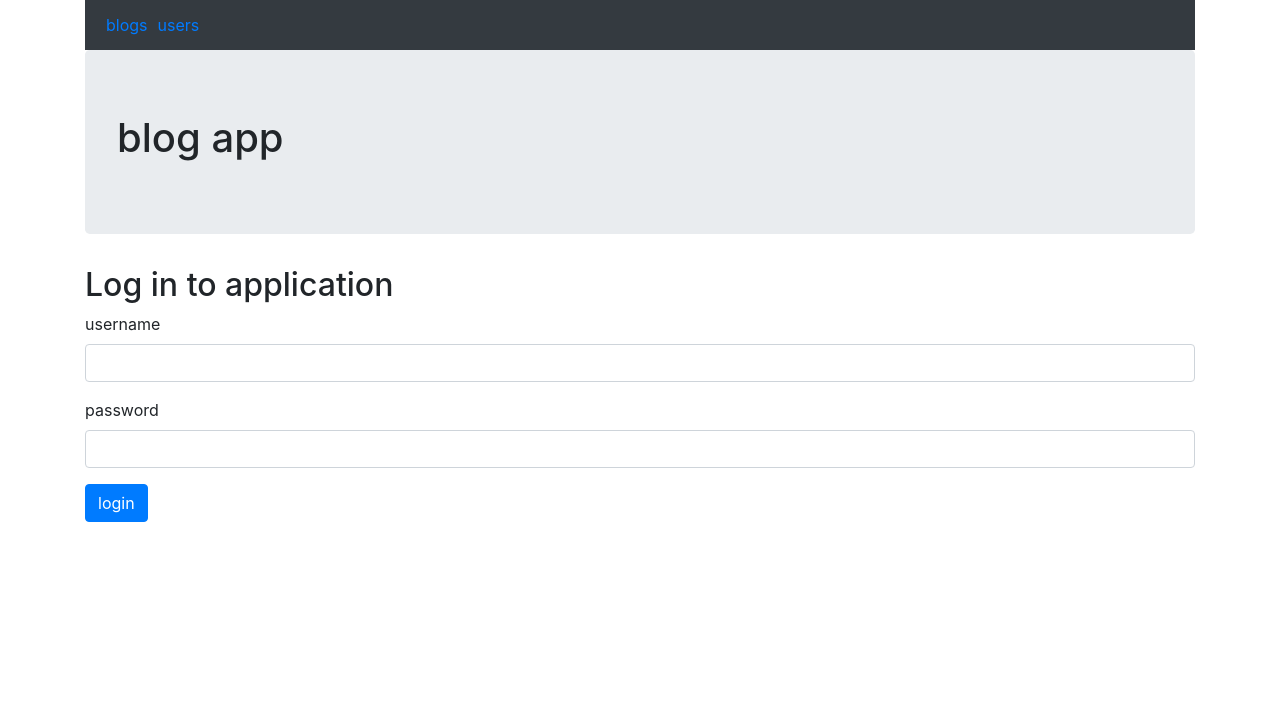
Test: Blog app › non-existing user cannot log in
Type "nonuser" into the field with id "username". click: (640, 363)
box: x1=85 y1=344 x2=1195 y2=382
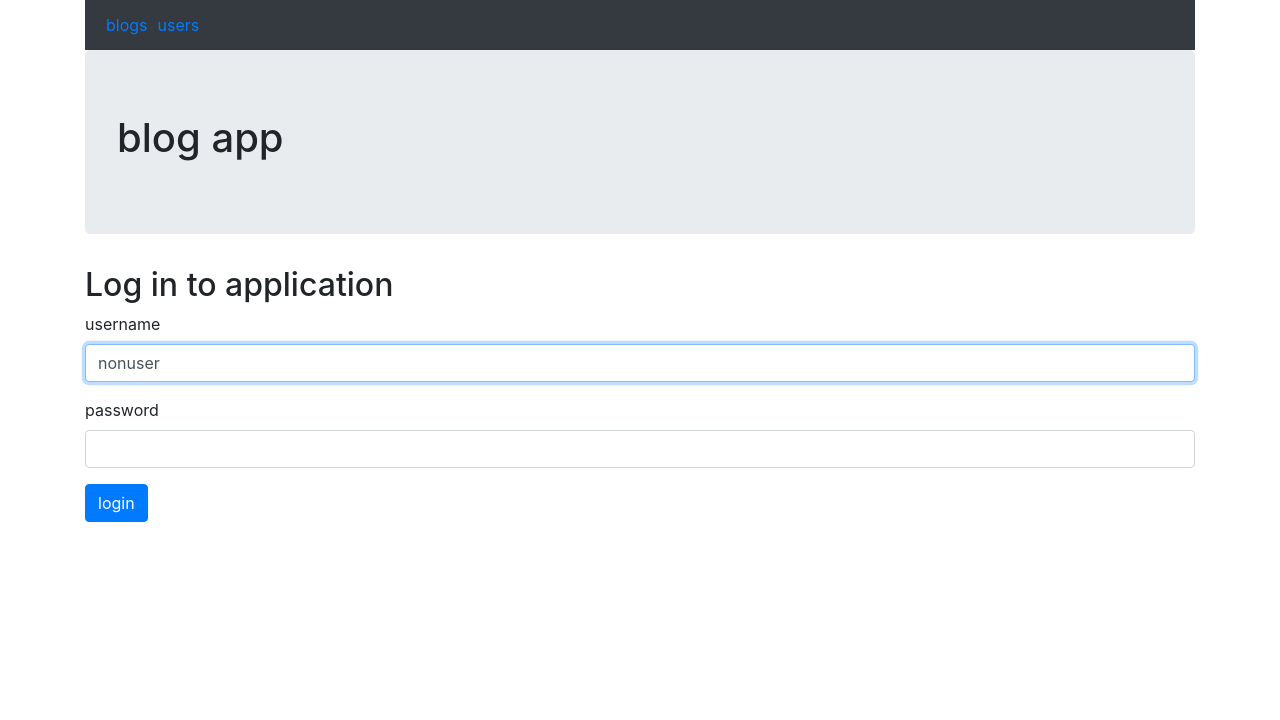
Type "secret" into the password field. click: (640, 449)
box: x1=85 y1=430 x2=1195 y2=468
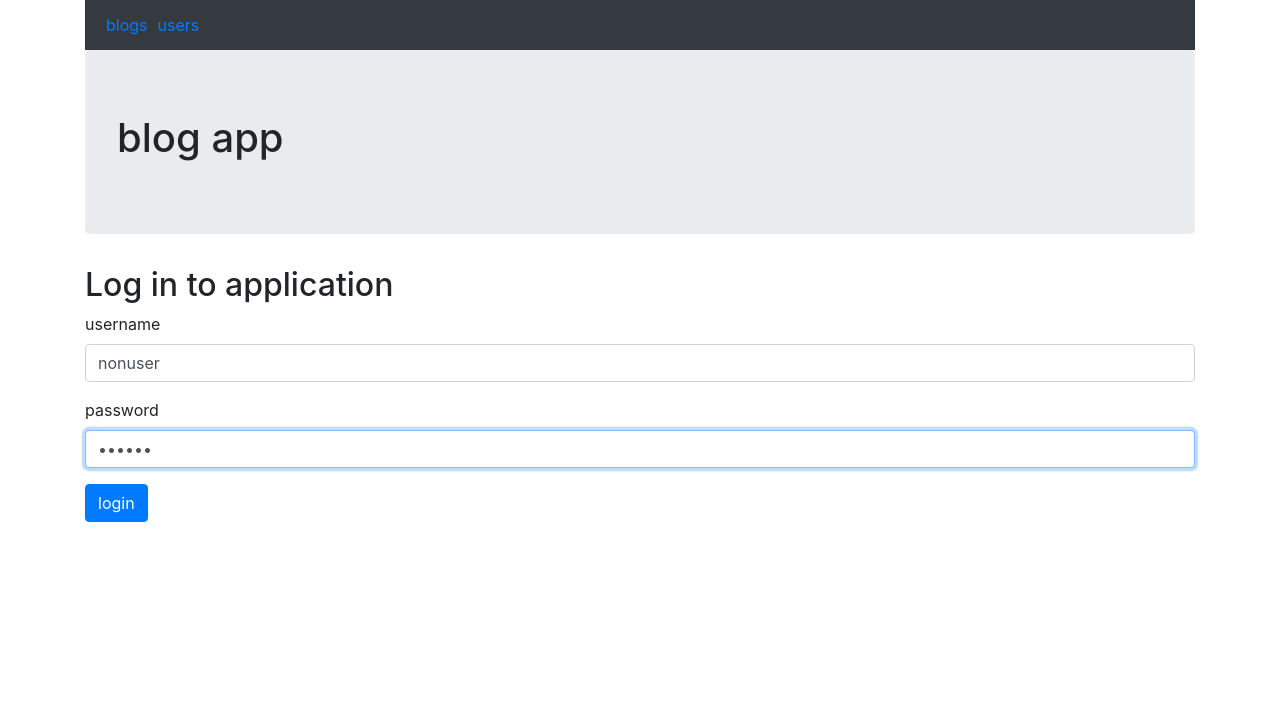
Click the button "login". click: (117, 503)
box: x1=85 y1=484 x2=148 y2=522
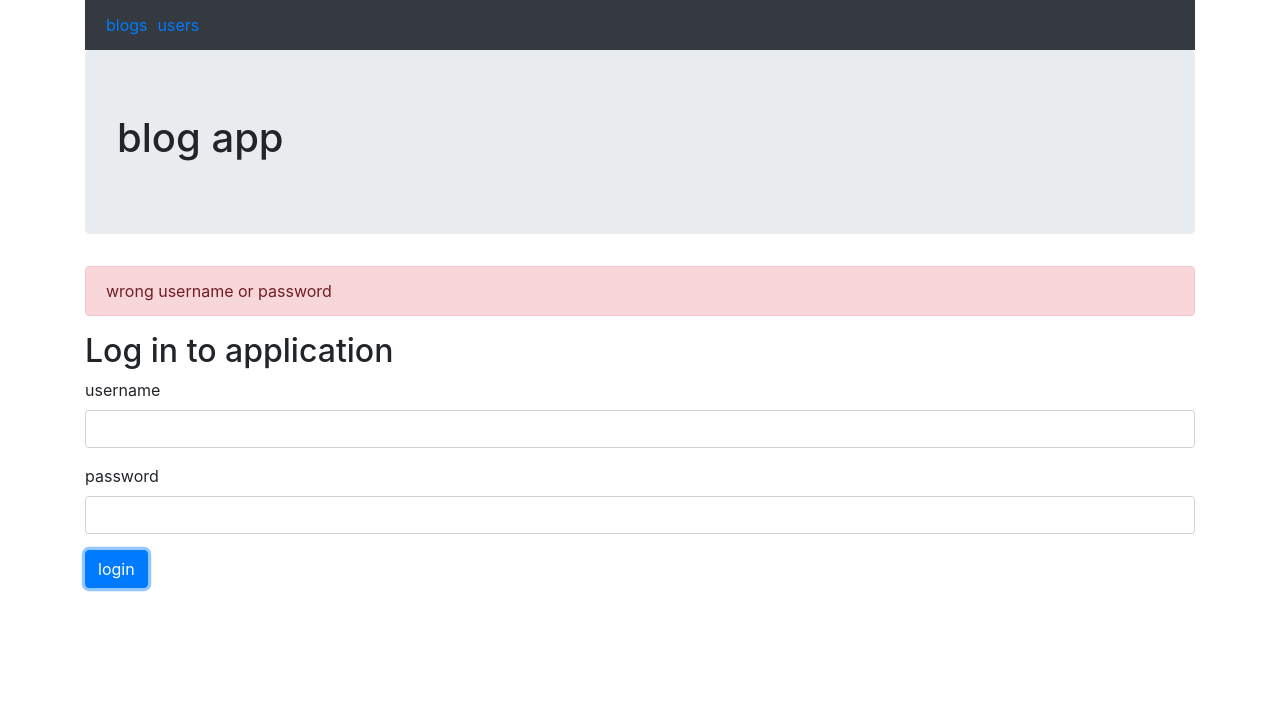
Result: the text "wrong username or password" is shown at x1=85 y1=266 x2=1195 y2=316
